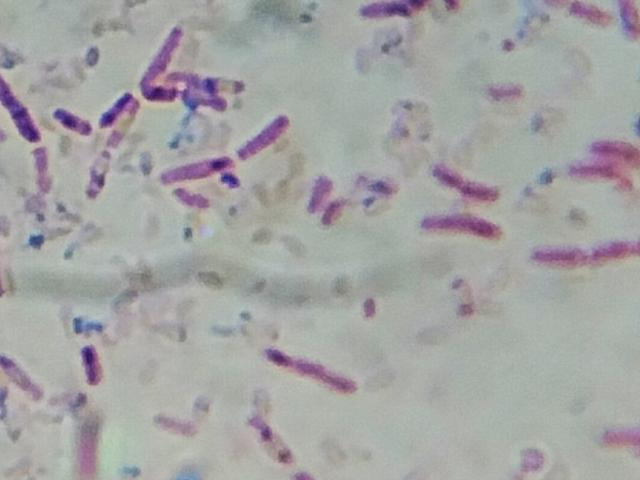E. coli: (261, 338, 354, 389), (539, 241, 639, 274), (235, 111, 295, 162), (0, 73, 36, 140), (430, 162, 495, 199), (417, 213, 501, 241), (137, 28, 186, 72), (159, 154, 229, 183), (0, 349, 35, 401), (353, 0, 425, 24), (576, 160, 633, 189), (153, 86, 221, 108), (108, 103, 140, 147), (596, 129, 636, 164), (563, 0, 609, 30), (167, 70, 243, 88), (78, 335, 102, 391), (83, 154, 114, 197), (53, 109, 88, 139), (304, 171, 328, 207), (619, 0, 640, 40), (99, 92, 125, 119), (319, 195, 340, 225)
